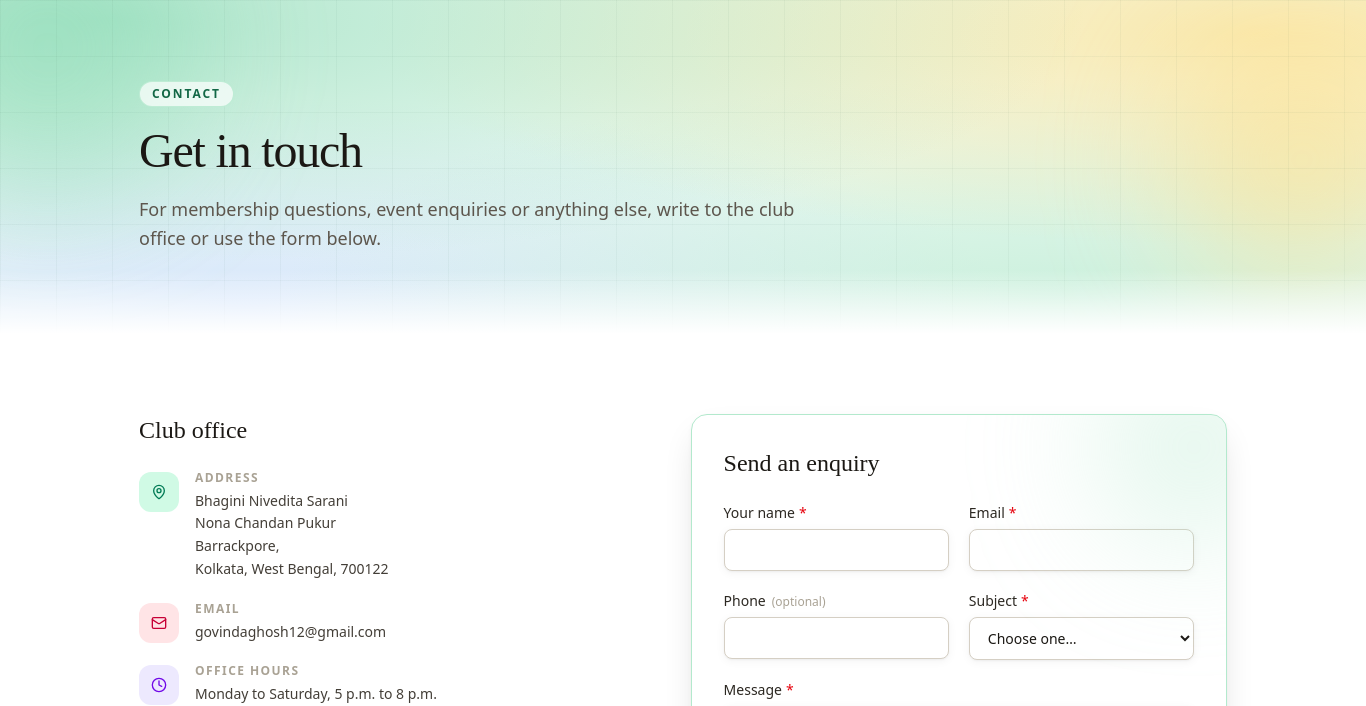
Test case: when it cannot be sent › says so in the server’s words and never claims success
Type "Bristi Ghosh" into the field labelled "Your name*" at (836, 550), box top-left (724, 528), bottom-right (949, 570)
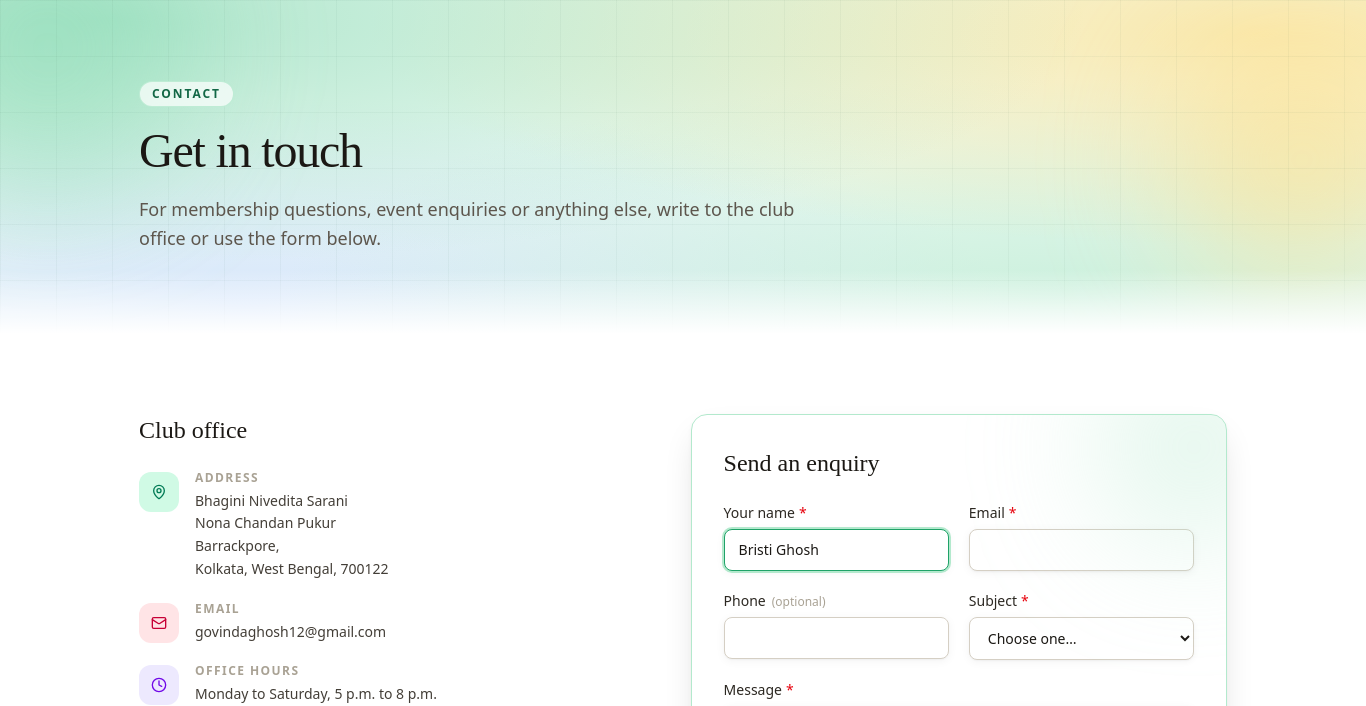
Type "bristi@example.org" into the field labelled "Email*" at (1081, 550), box top-left (969, 528), bottom-right (1194, 570)
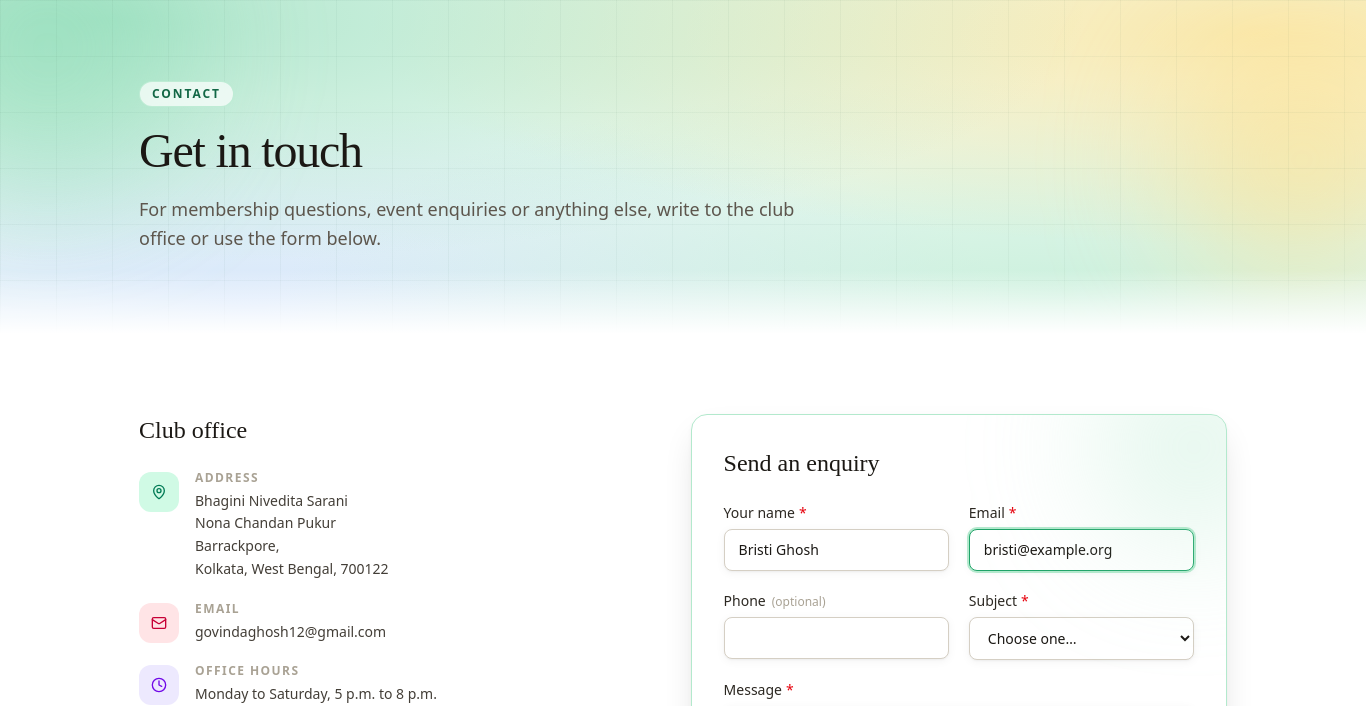
Select "Membership enquiry" in the dropdown labelled "Subject*" at (1081, 638), box top-left (969, 616), bottom-right (1194, 660)
(page scrolled)
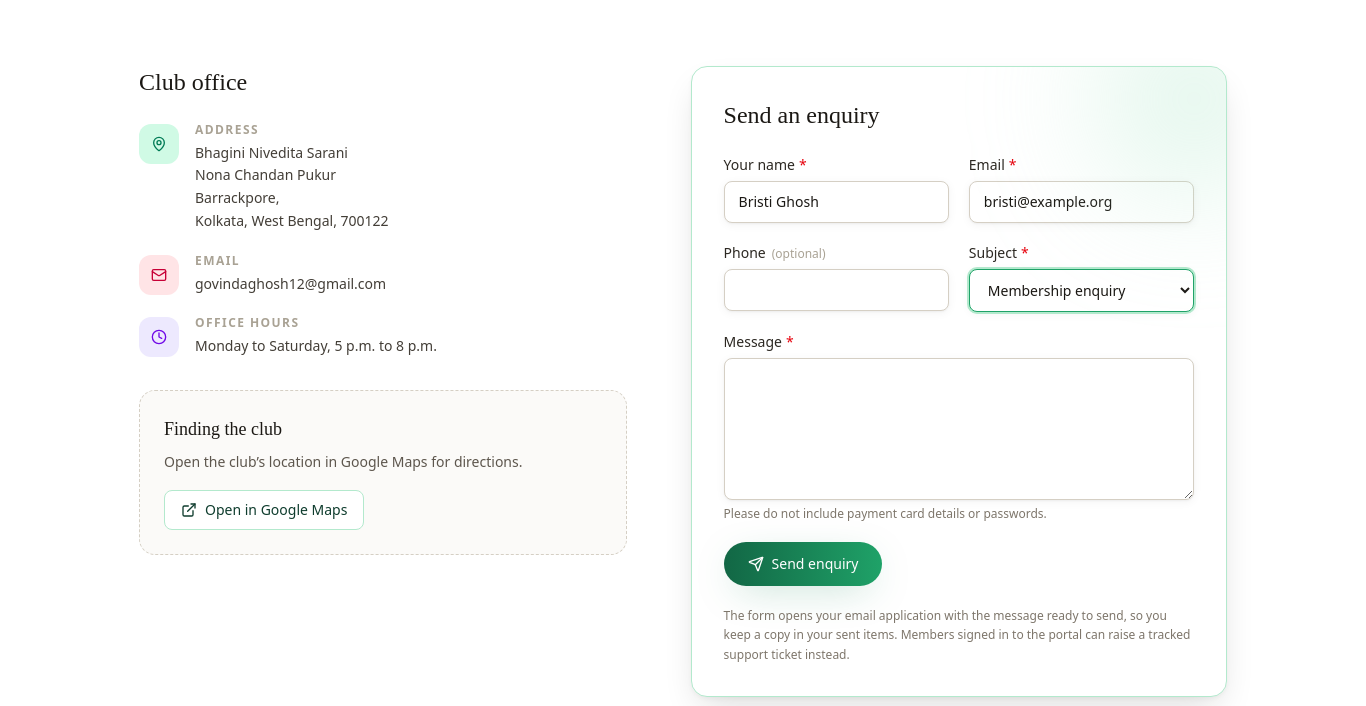
Type "I live on Station Road and would like to know how to become a member." into the text box labelled "Message*" at (959, 428), box top-left (724, 358), bottom-right (1194, 500)
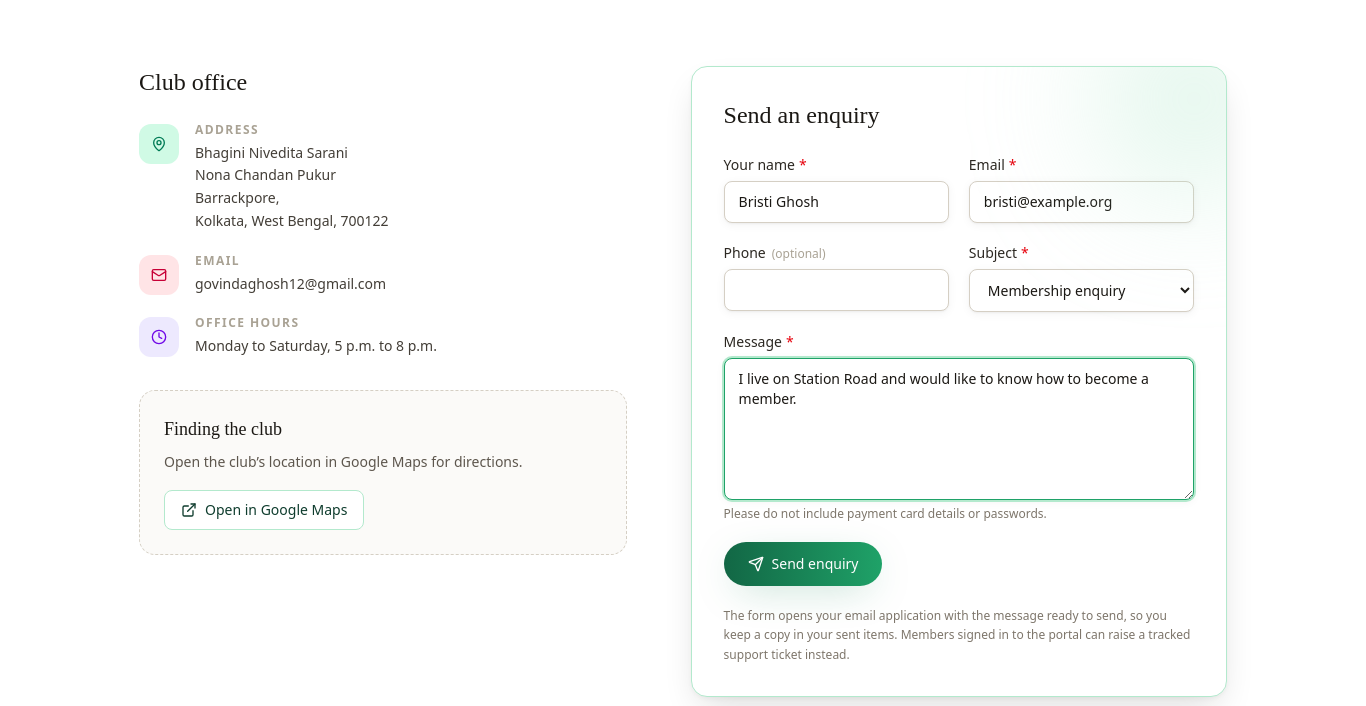
Click the button "Send enquiry" at (803, 564), box top-left (724, 542), bottom-right (882, 586)
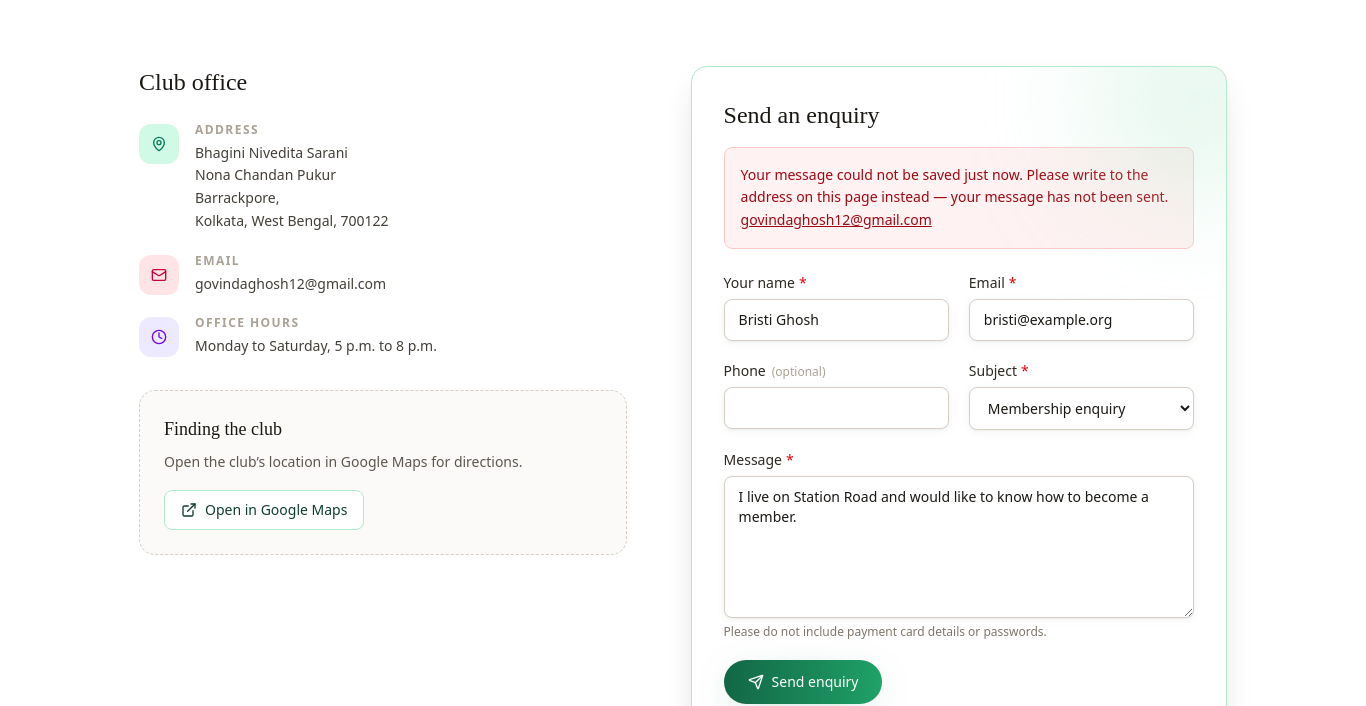
expect the message shows "has not been sent": met, box top-left (741, 164), bottom-right (1168, 206)
